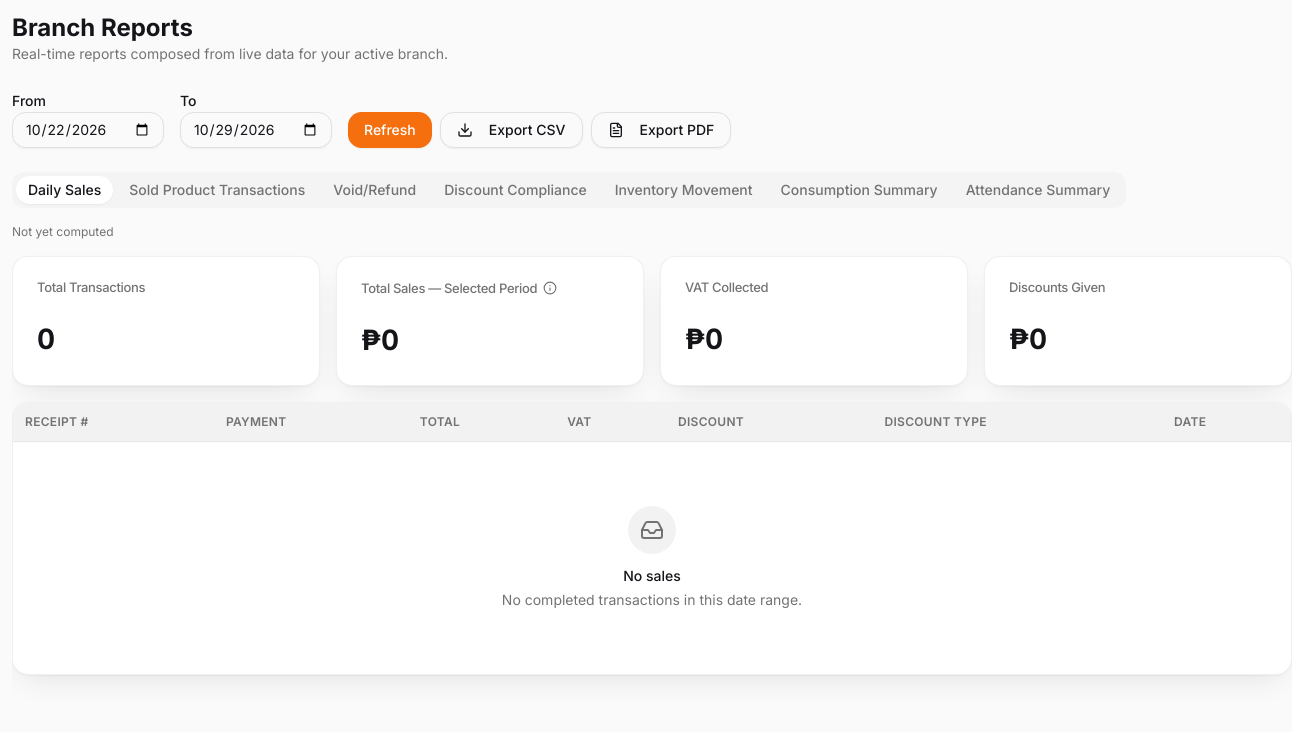
Test: ReportsView — Inventory Movement tab (aligned InventoryStockMovement source) › TEST E — shows loading UI without throwing or rendering the empty-state message
Press the mouse on the tab "Inventory Movement": (684, 190) [603,176,765,204]
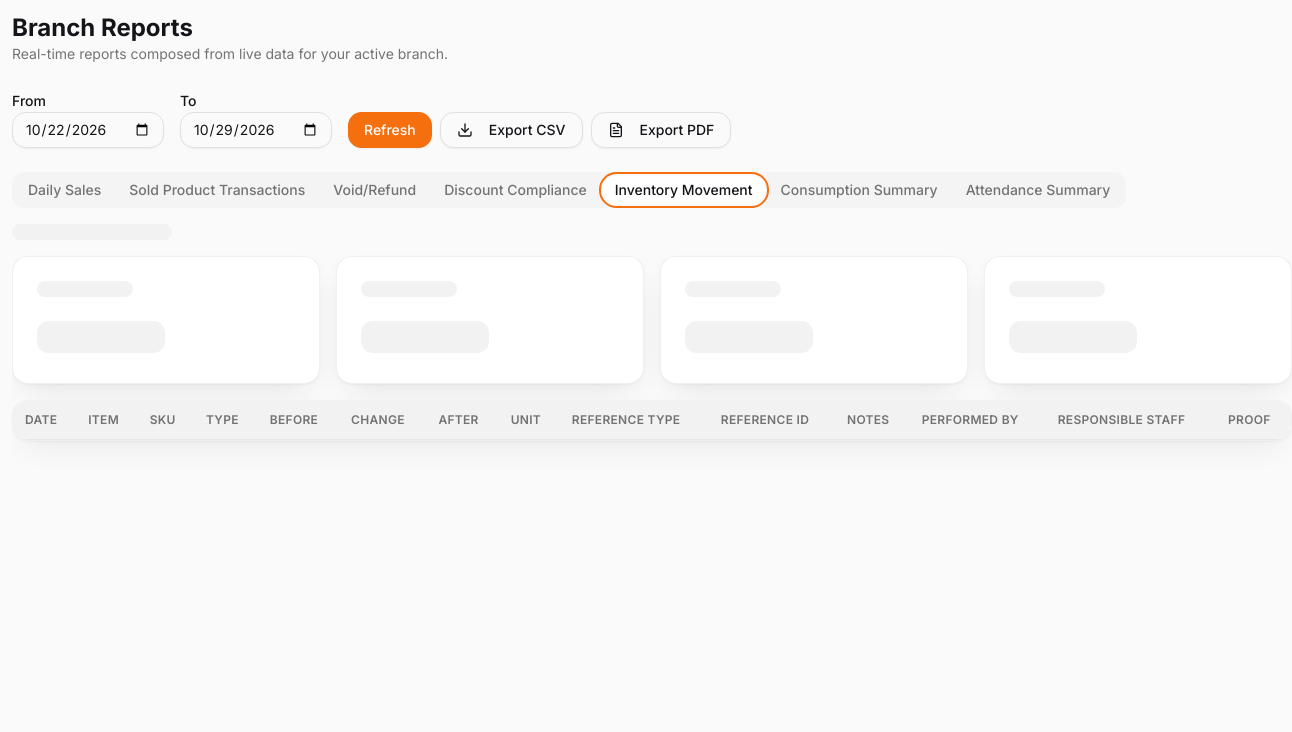
Expected: the icon with class "animate-spin" is shown, [632,400,672,440]
